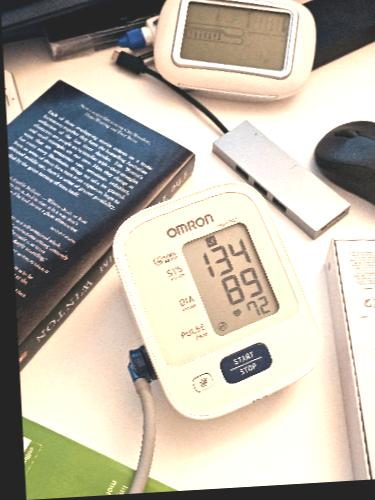bpm: (179, 218, 284, 339)
